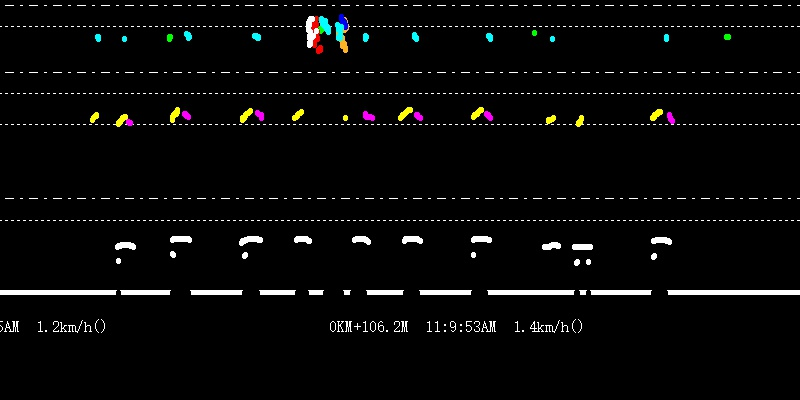J: (302, 3, 352, 57)
face_down: (246, 20, 266, 50), (180, 23, 199, 45), (408, 17, 420, 48)
y_p: (159, 98, 506, 251)
